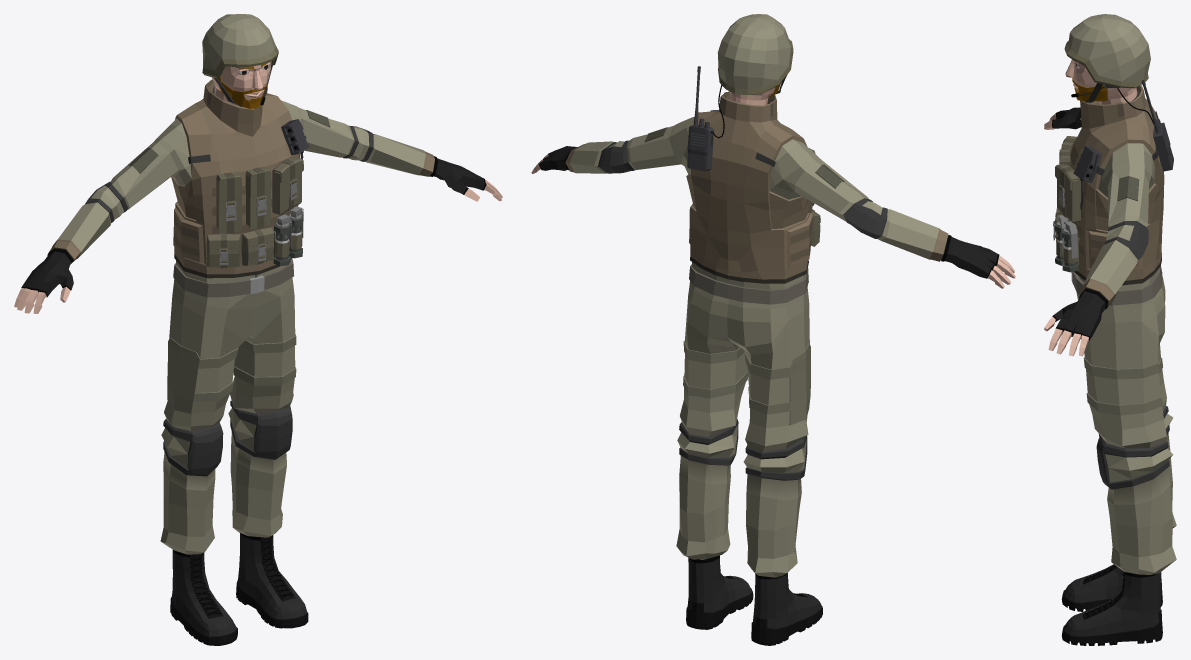
File: Soldado.glb
The picture shows the model from 3 angles, left to right: view 1: azimuth 30°, elevation 25°; view 2: azimuth 150°, elevation 25°; view 3: azimuth 270°, elevation 25°; orthographic projection.
Visible parts, largest first — view 1: Character; view 2: Character; view 3: Character.
Part boxes in pixels (x1,y1,x2,y2): Character: (14, 14, 502, 645); Character: (531, 14, 1015, 645); Character: (1044, 14, 1176, 645).
Size of the model in its own units: 1.52 by 1.82 by 0.3628.
1 material, 1 textured.
